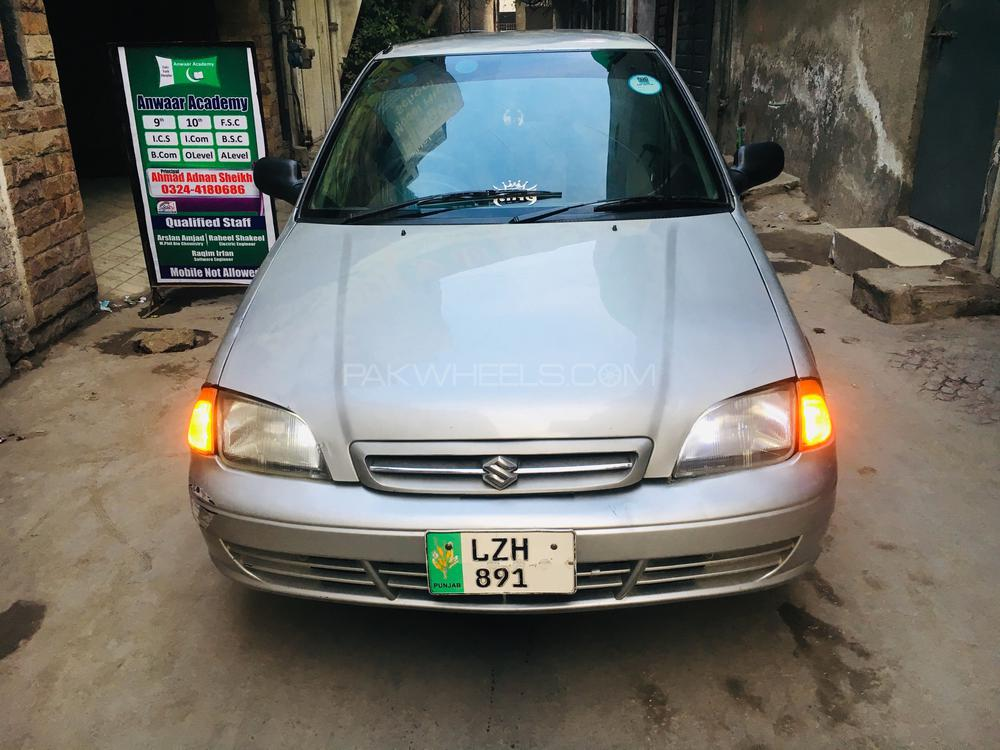plate: (421, 525, 580, 601)
